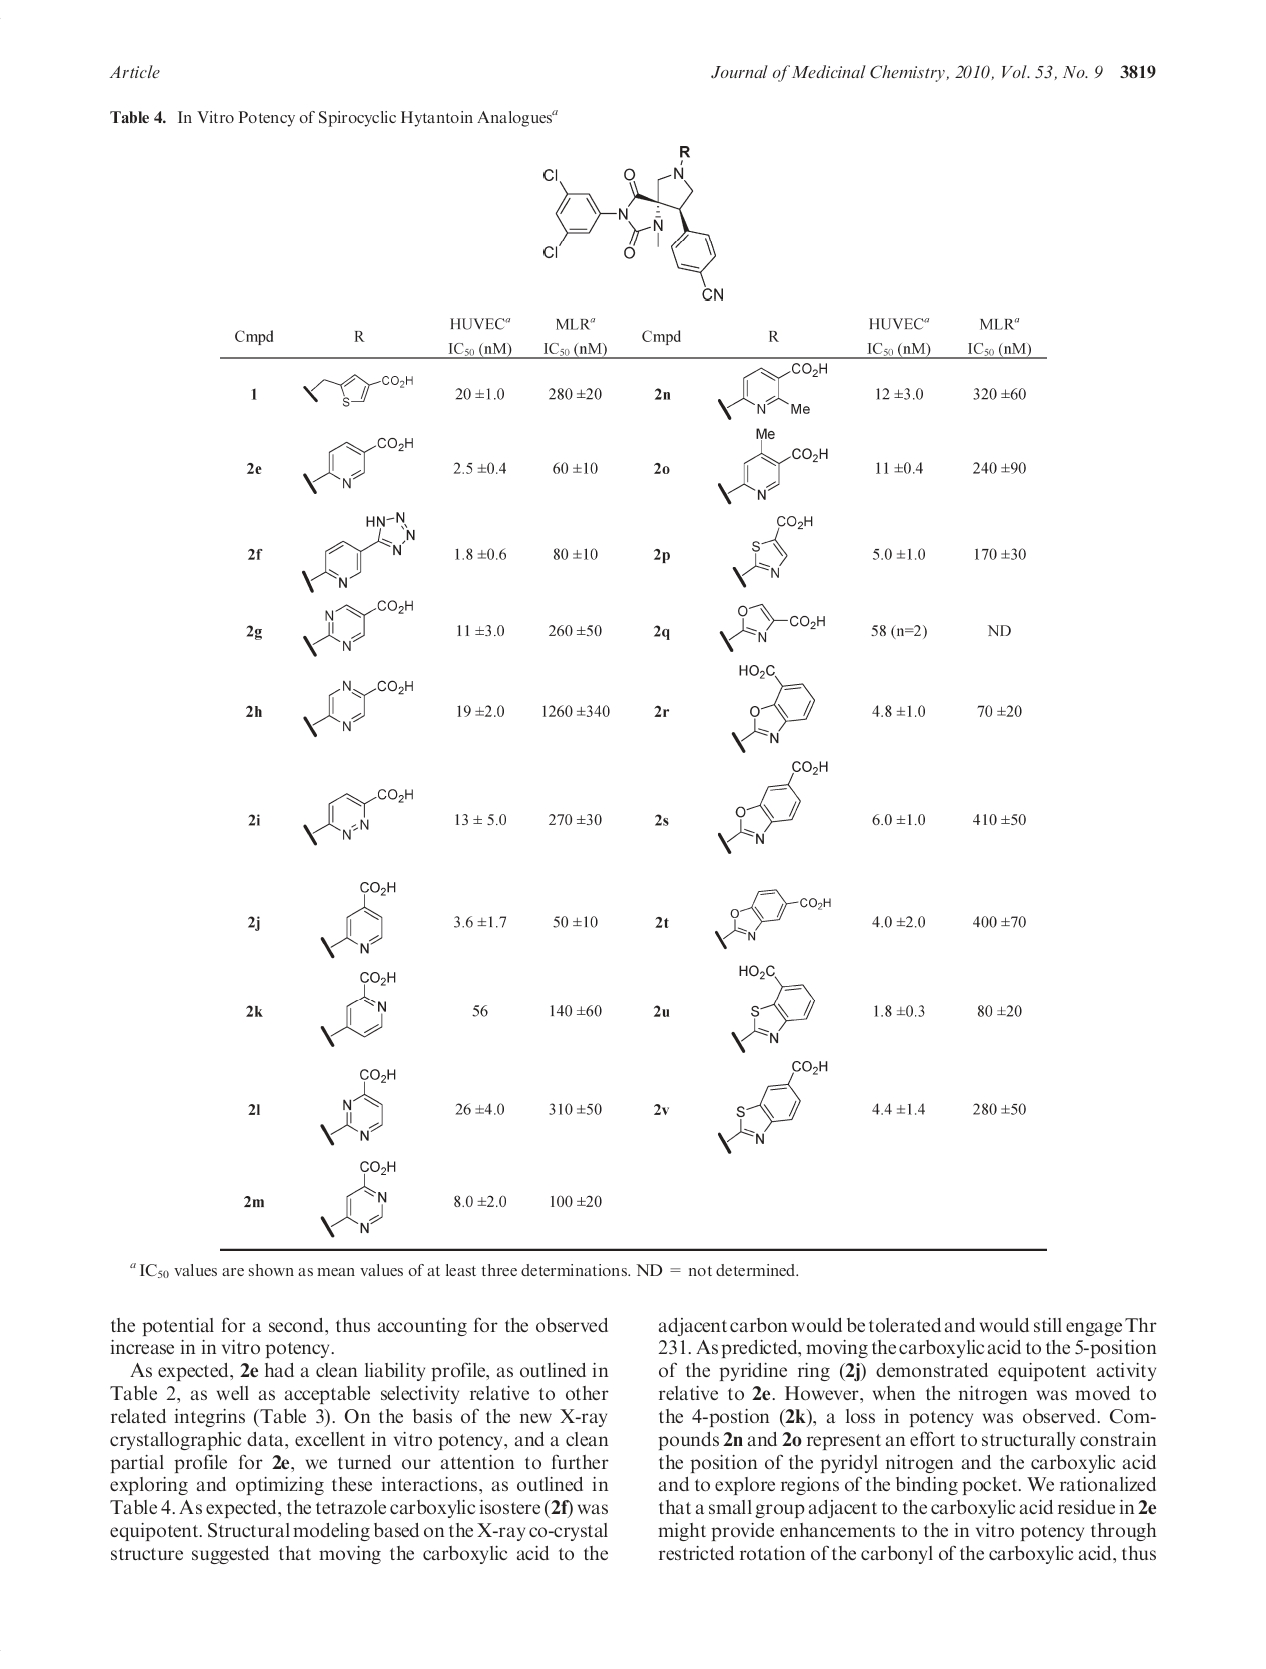exist_molecular: (543, 144, 727, 305), (715, 757, 828, 855), (718, 1059, 832, 1154), (301, 509, 418, 593), (715, 426, 830, 505), (727, 960, 817, 1053), (730, 662, 817, 753), (714, 888, 832, 950), (302, 677, 416, 739), (303, 436, 418, 497), (717, 360, 828, 422), (731, 511, 817, 590), (301, 786, 416, 844), (302, 598, 415, 657), (316, 1068, 398, 1146), (319, 1157, 398, 1238), (319, 969, 398, 1049), (320, 879, 398, 959), (719, 601, 828, 654), (302, 371, 418, 410)
